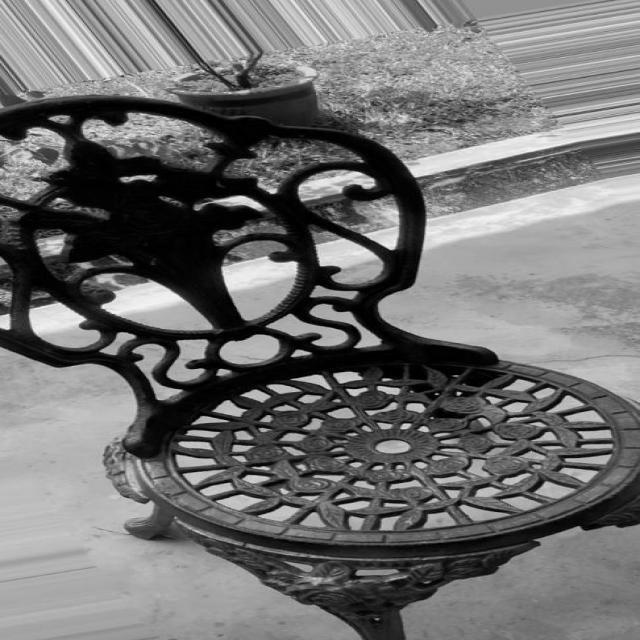chair: (1, 92, 639, 640)
